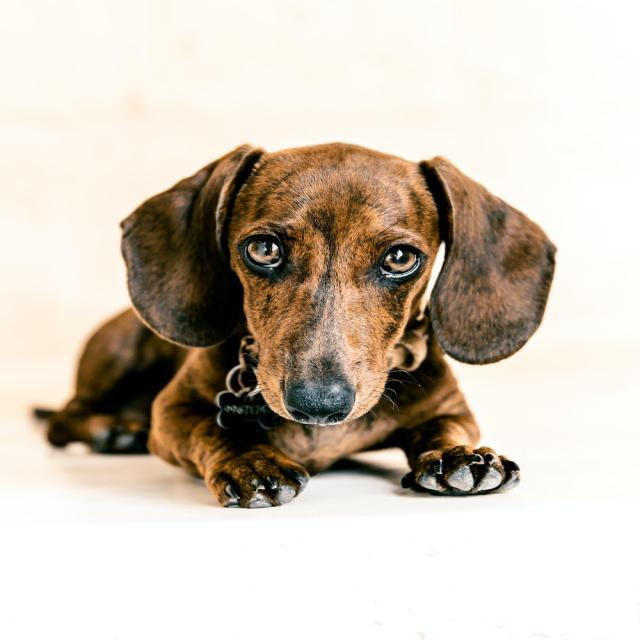beagle: (96, 110, 576, 440)
